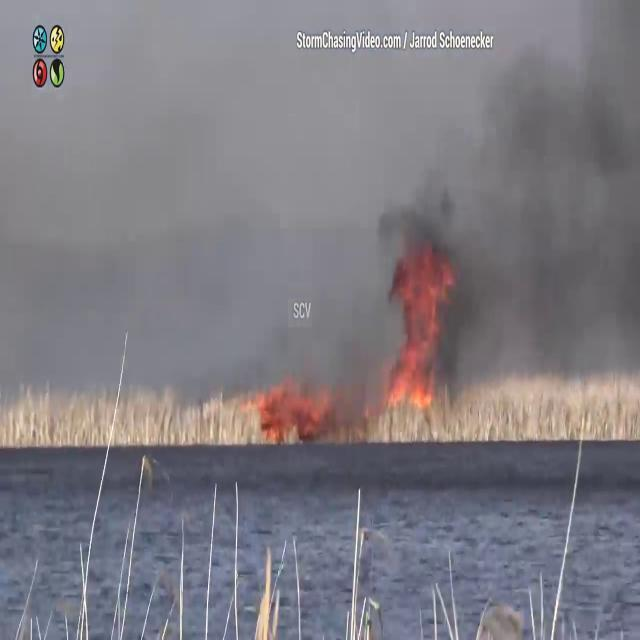Fire: (376, 237, 460, 412), (233, 361, 382, 441)
Smoke: (0, 0, 640, 340)
